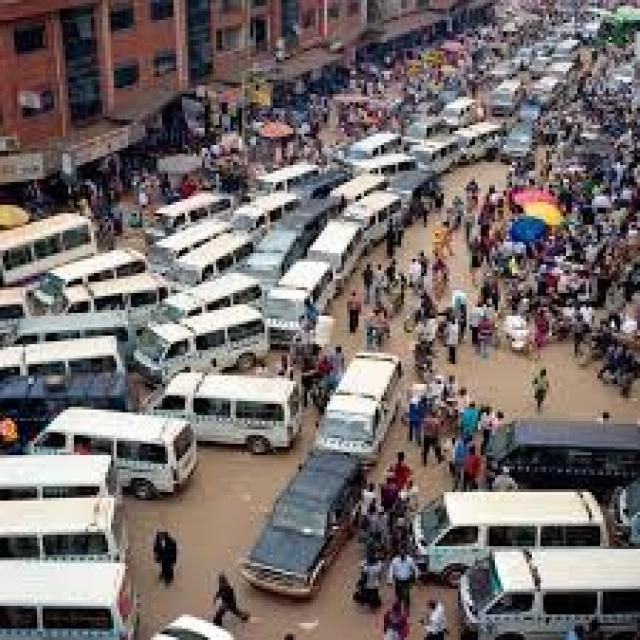MiniBus taxi: (412, 486, 614, 586), (446, 543, 640, 637), (26, 406, 199, 501), (145, 367, 296, 455), (318, 352, 406, 463), (145, 304, 265, 384)
Pedestrians: (208, 572, 250, 626), (148, 526, 185, 586), (526, 364, 555, 410)
